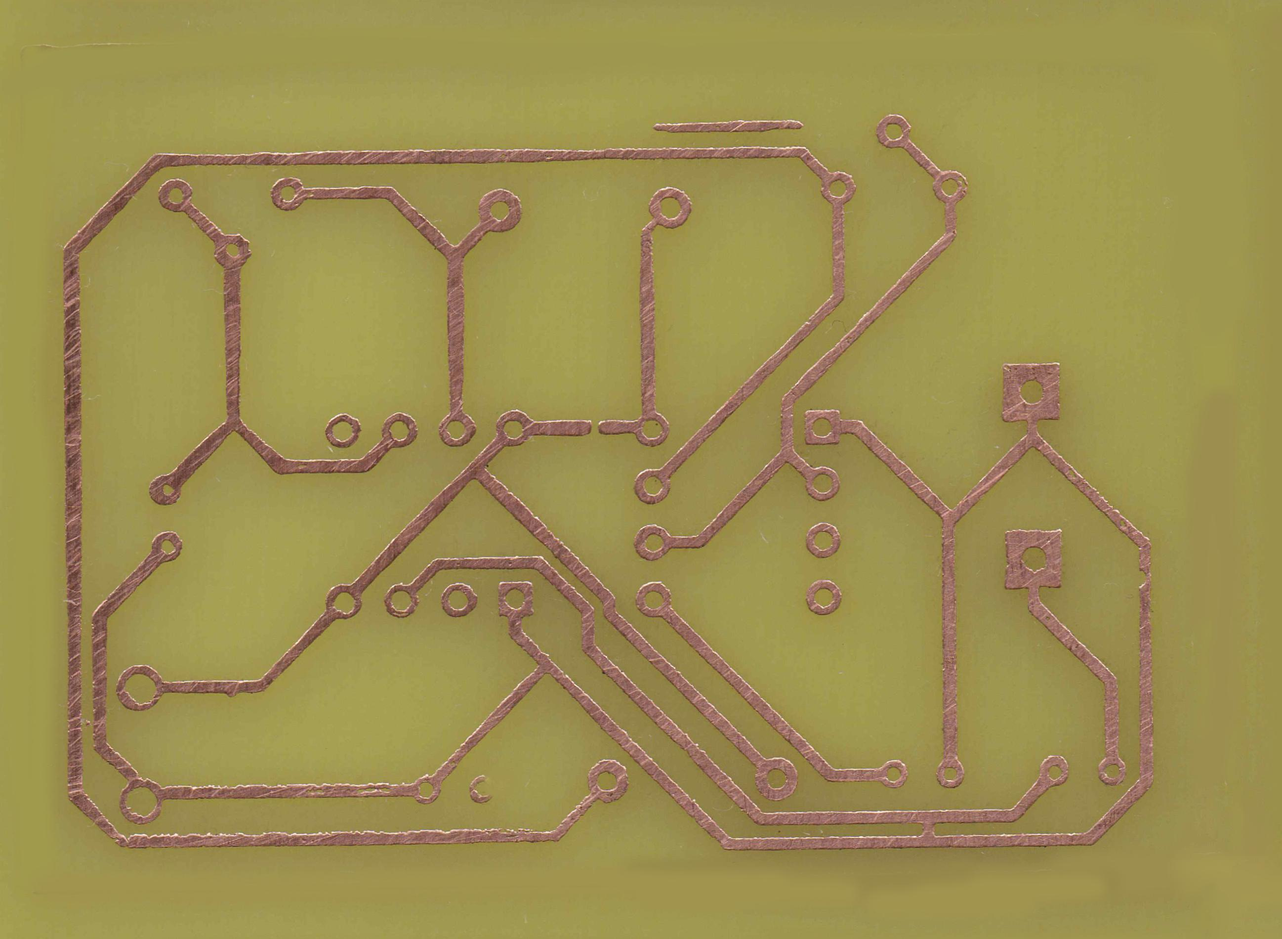missing_hole: (467, 771, 496, 806)
mouse_bite: (1133, 562, 1155, 591)
open_circuit: (582, 415, 607, 439)
short: (916, 807, 940, 852)
spurious_copper: (647, 116, 810, 137)
